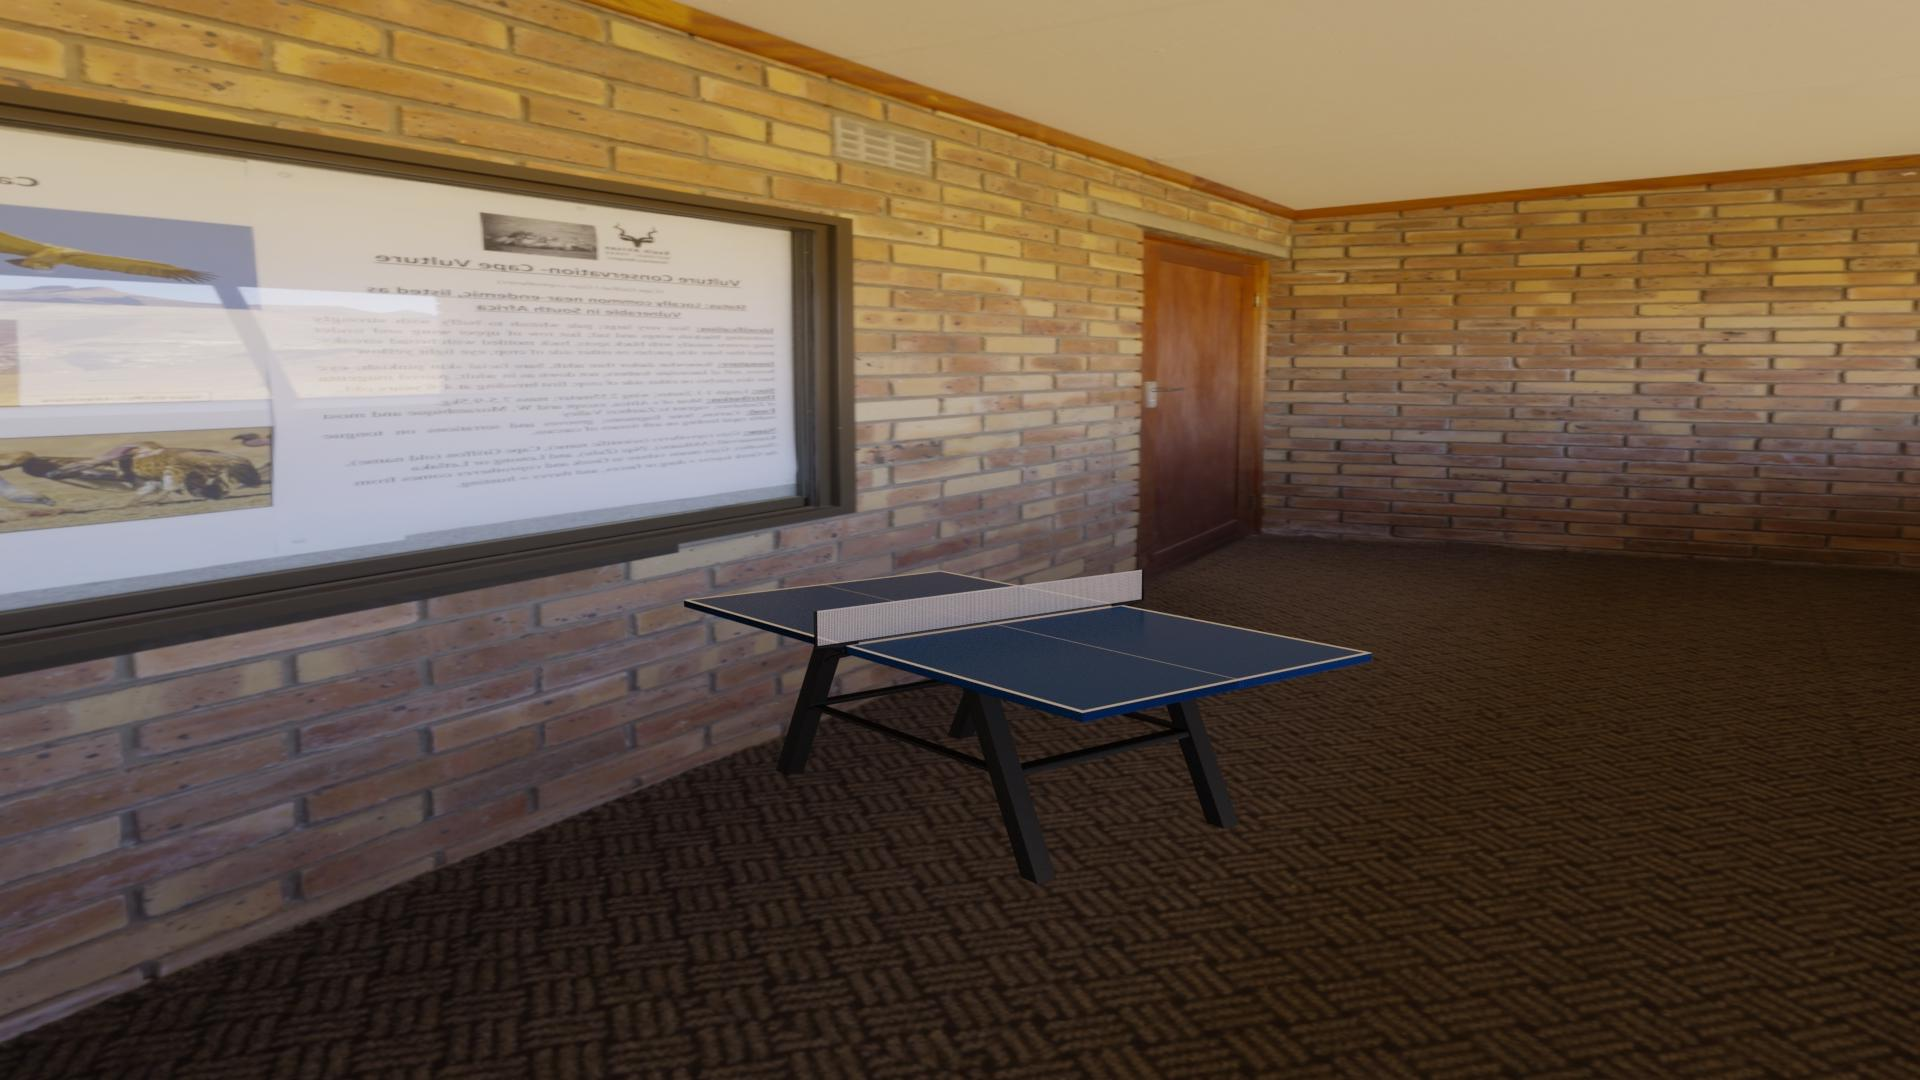table: (690, 571, 1365, 711)
